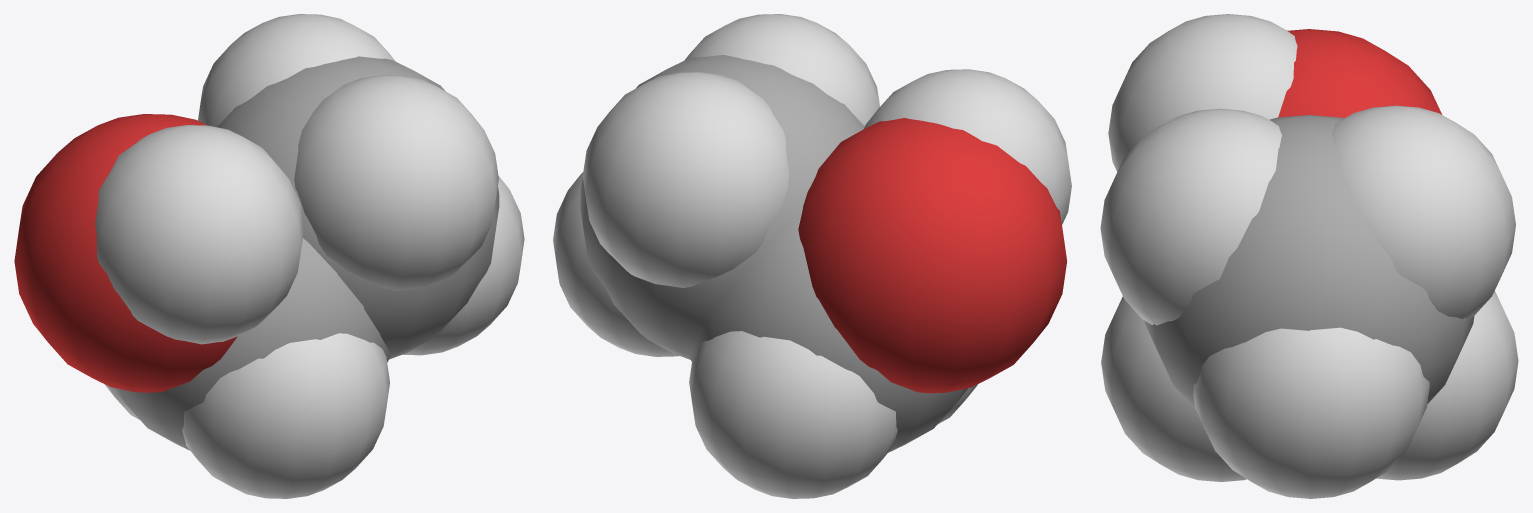
File: ethanol-cpk.glb
3 renders of one model, left to right at view 1: azimuth 30°, elevation 25°; view 2: azimuth 150°, elevation 25°; view 3: azimuth 270°, elevation 25°, orthographic. The views are drawn at different scales.
Parts seen in each view (by area): view 1: ethanol-cpk; view 2: ethanol-cpk; view 3: ethanol-cpk.
Part boxes in pixels (x1,y1,x2,y2): ethanol-cpk: (14, 14, 524, 498); ethanol-cpk: (553, 14, 1071, 498); ethanol-cpk: (1100, 14, 1518, 498).
Size of the model in its own units: 6 by 4.54 by 4.18.
